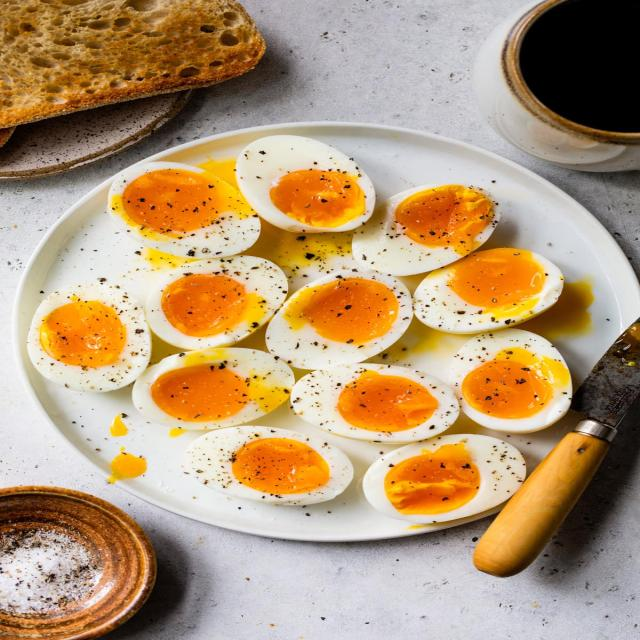eggs: (68, 153, 566, 510)
